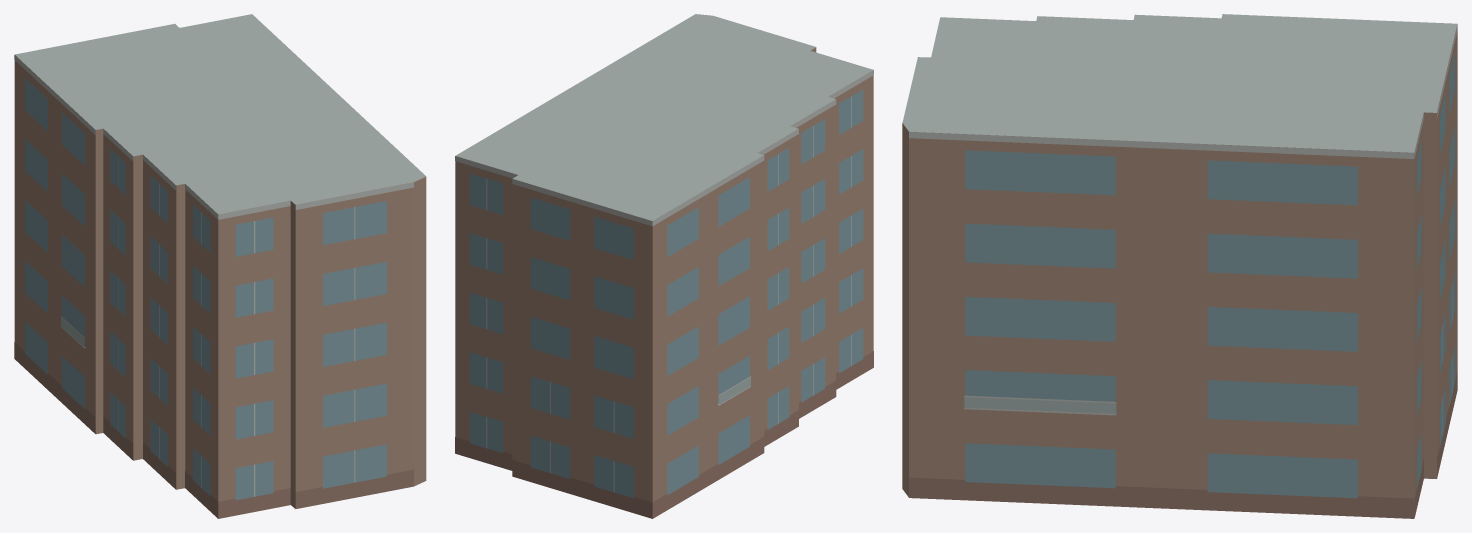
Rendered from survey-upis-32923035.glb.
The picture shows the model from 3 angles, left to right: view 1: azimuth 30°, elevation 25°; view 2: azimuth 150°, elevation 25°; view 3: azimuth 270°, elevation 25°; orthographic projection. The views are drawn at different scales.
Parts seen in each view (by area): view 1: survey-upis-32923035.tmp; view 2: survey-upis-32923035.tmp; view 3: survey-upis-32923035.tmp.
Boxes of the visible parts, box(x1,y1,x2,y2) form: survey-upis-32923035.tmp: box(14, 14, 426, 518); survey-upis-32923035.tmp: box(455, 14, 873, 518); survey-upis-32923035.tmp: box(902, 14, 1457, 518).
Size of the model in its own units: 11.3 by 13.9 by 19.11.
